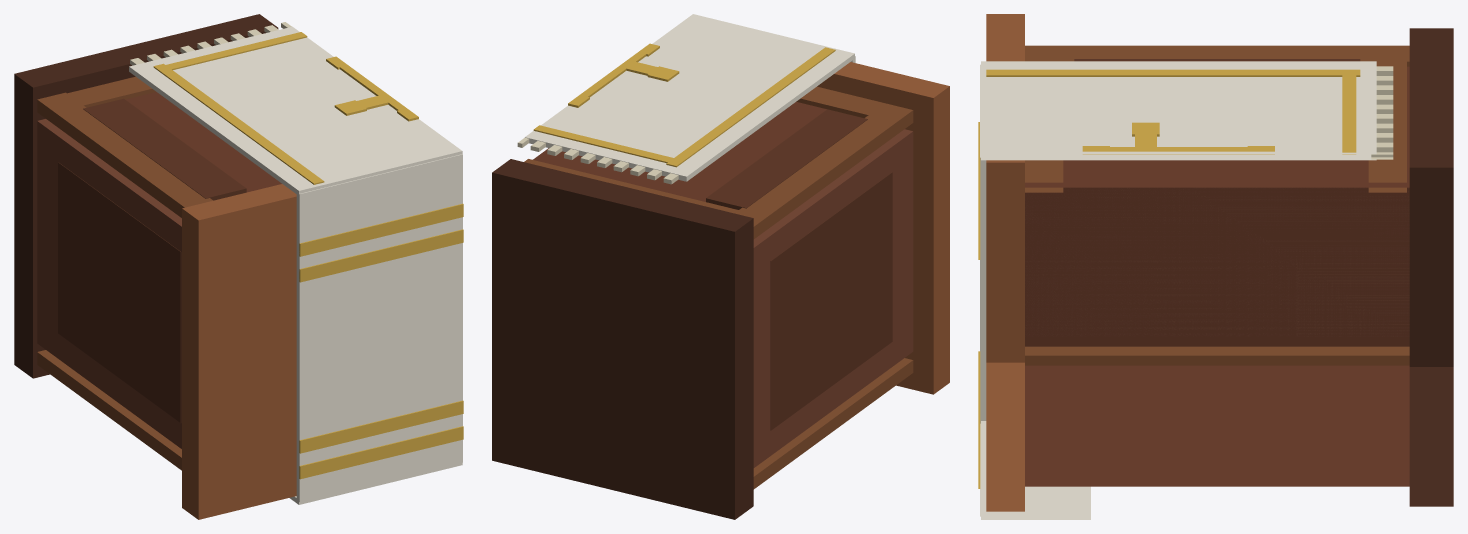
Rendered from section-0.obj.
3 views of the same model, side by side, from view 1: azimuth 30°, elevation 25°; view 2: azimuth 150°, elevation 25°; view 3: azimuth 270°, elevation 25° (orthographic). The views are drawn at different scales.
Bounding box in the file's own units: 0.64 × 0.739 × 0.865.
1 material, 1 textured.
